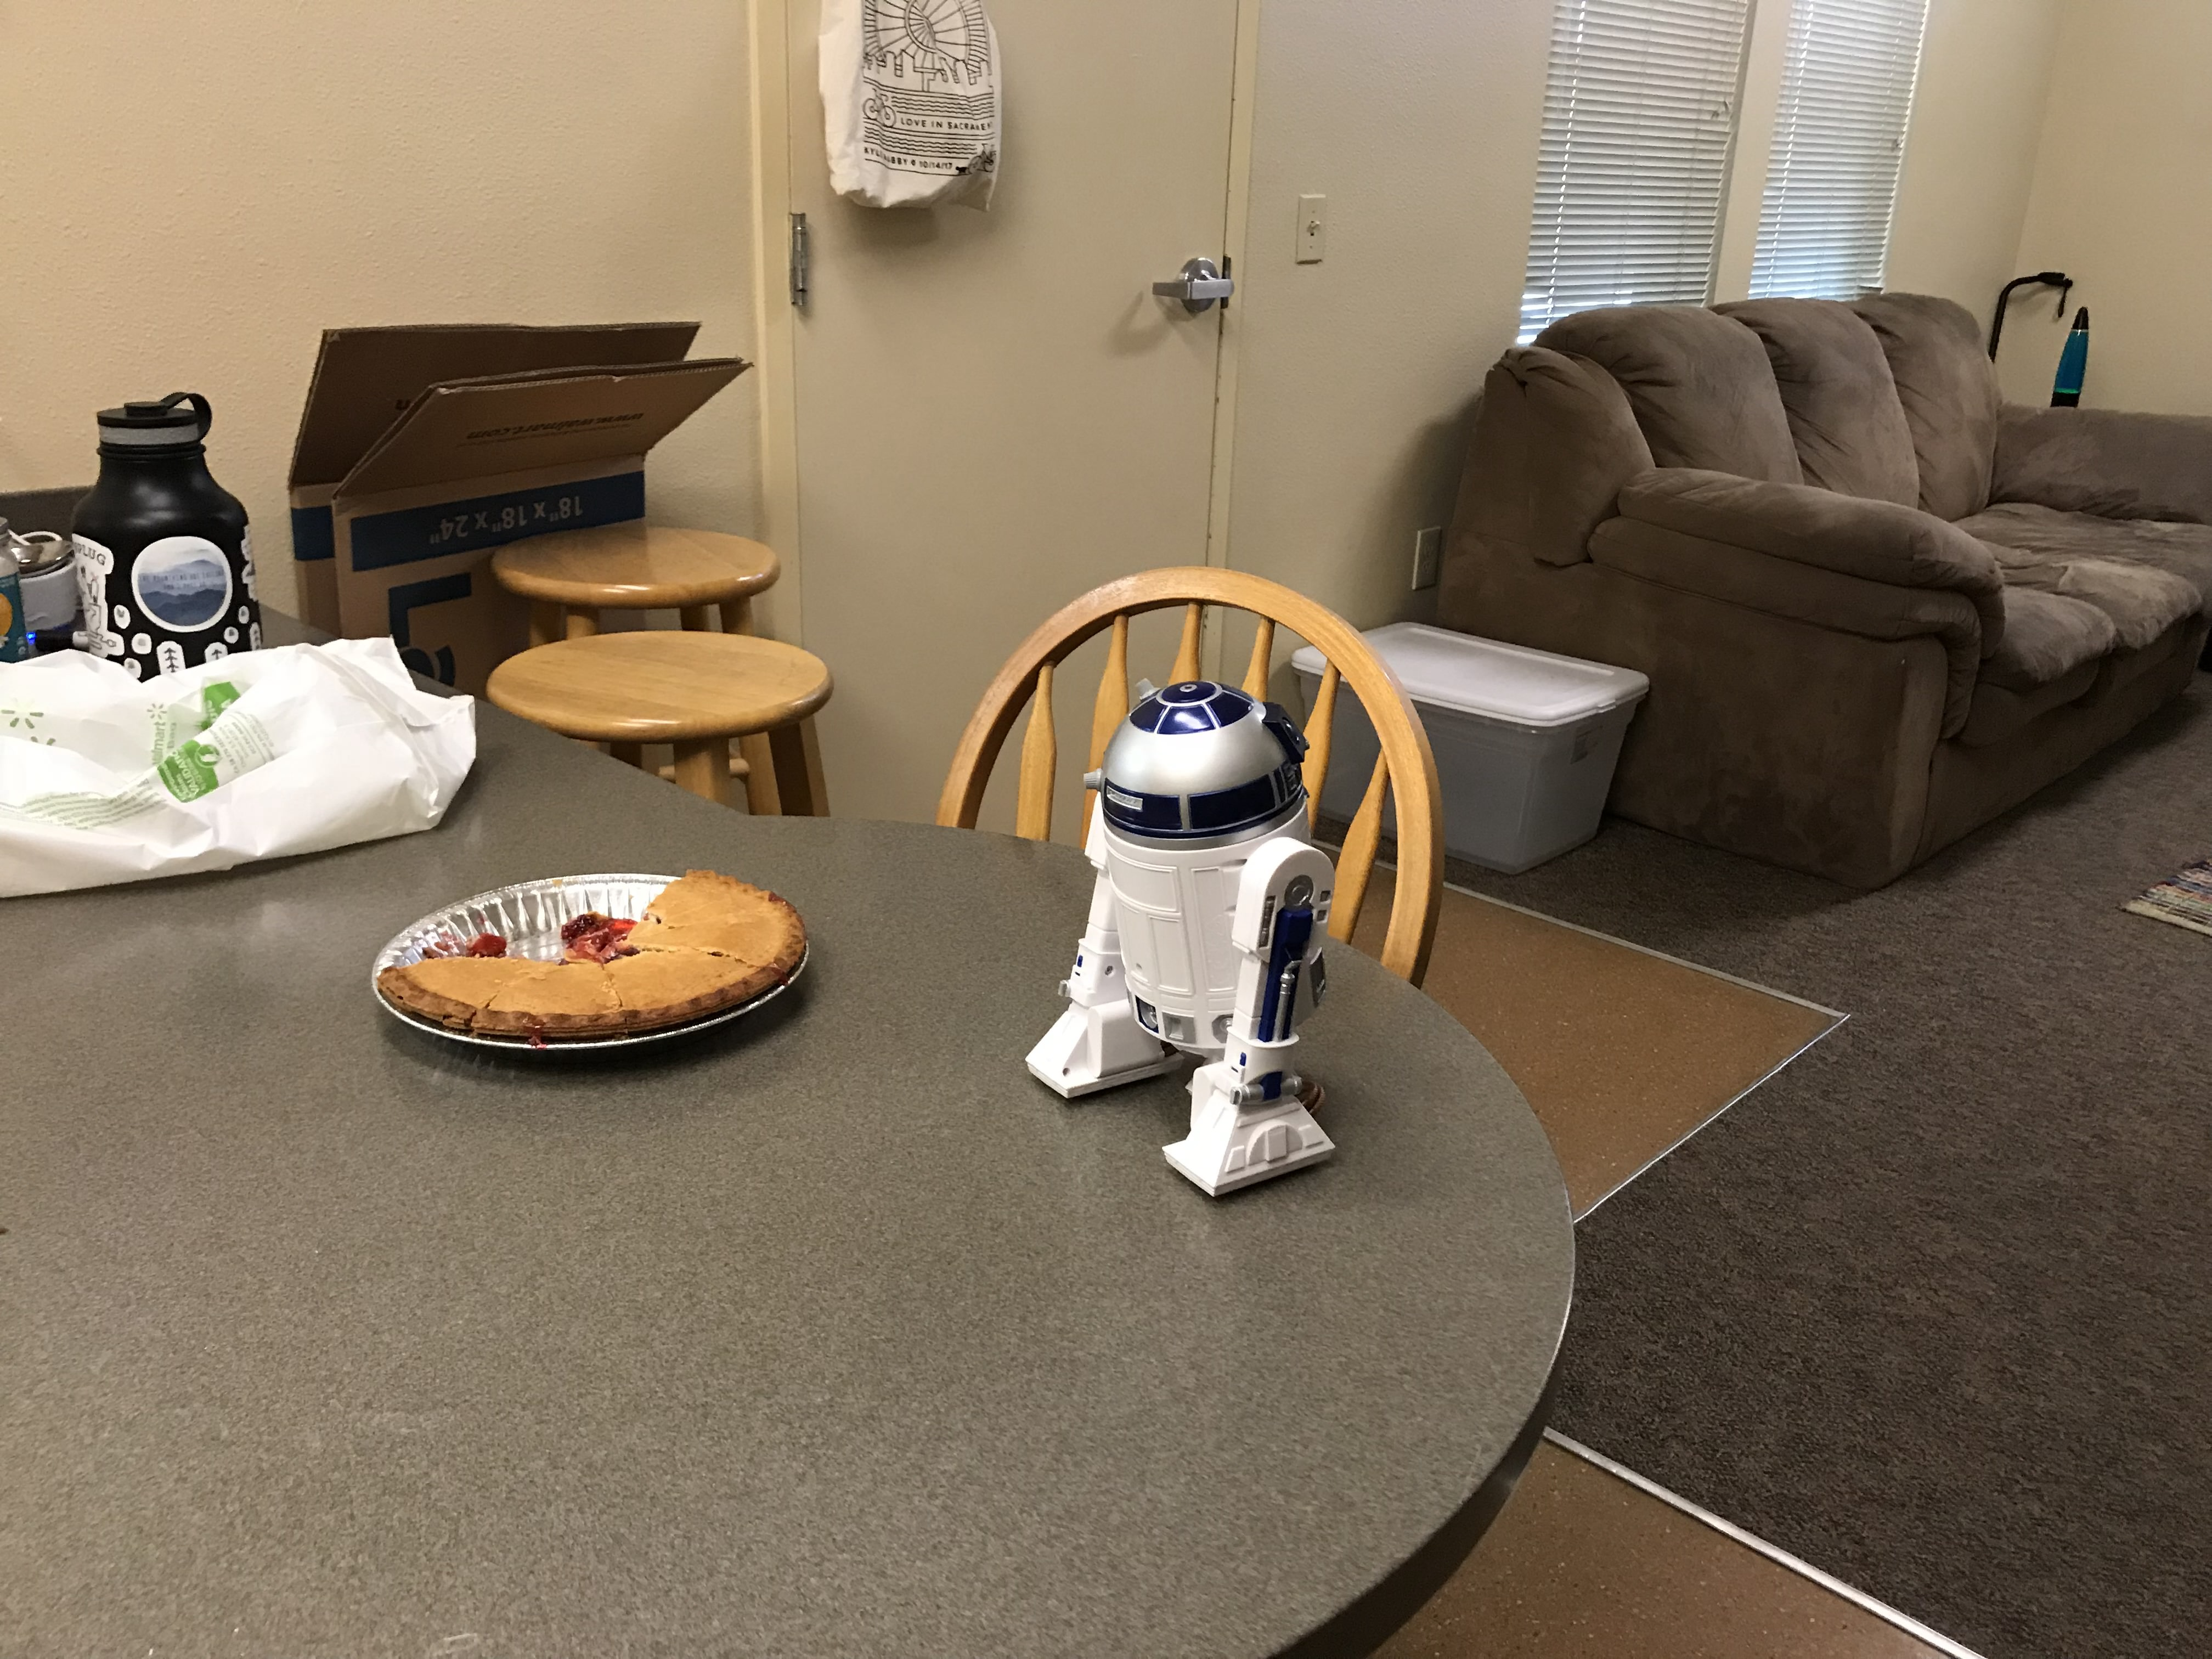r2d2: (1026, 678, 1334, 1202)
